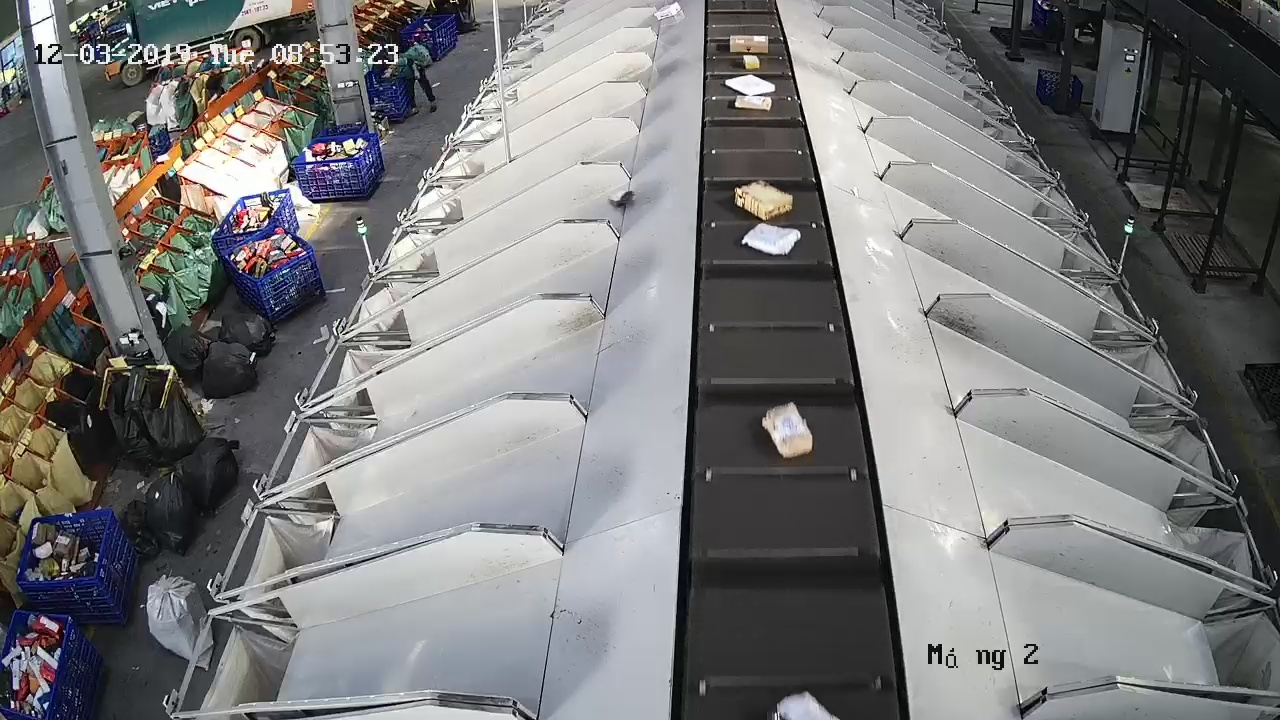parcel: (760, 399, 815, 461), (733, 178, 794, 221), (739, 222, 803, 258), (606, 188, 635, 208)
